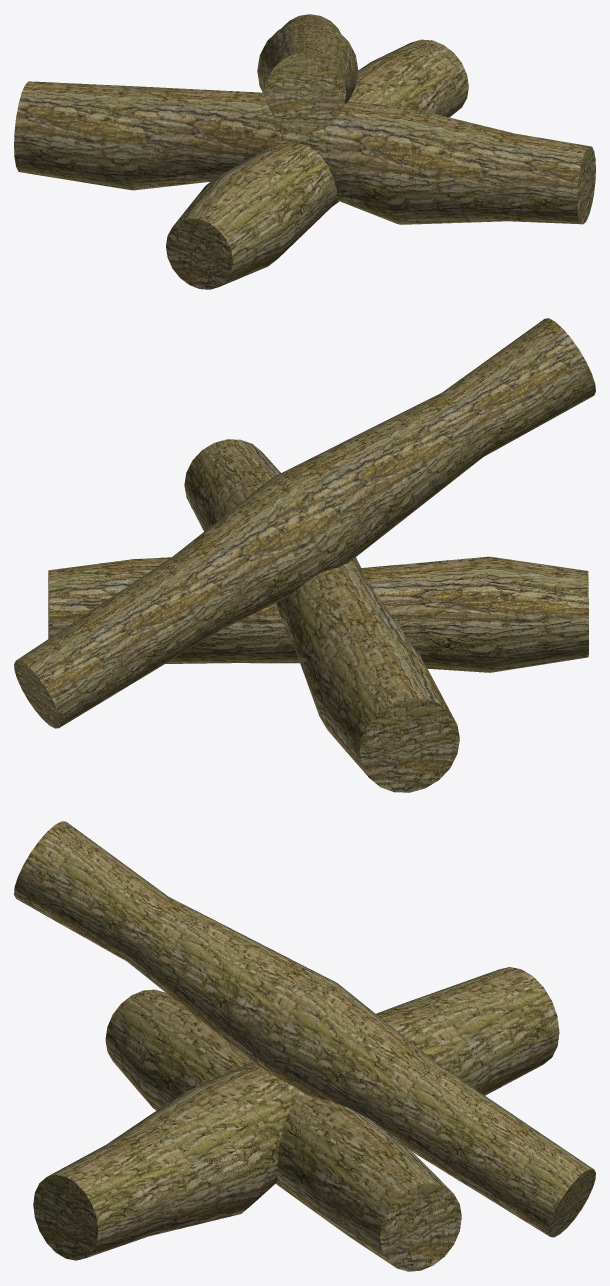
File: firepit_v001.fbx
3 views of the same model, one above another, from view 1: azimuth 30°, elevation 25°; view 2: azimuth 150°, elevation 25°; view 3: azimuth 270°, elevation 25° (orthographic). The views are drawn at different scales.
Visible parts, largest first — view 1: pCylinder3, pCylinder1, pCylinder2; view 2: pCylinder2, pCylinder1, pCylinder3; view 3: pCylinder2, pCylinder3, pCylinder1.
Boxes of the visible parts, left/top/right/bottom form: pCylinder3: left=14, top=81, right=595, bottom=224; pCylinder1: left=166, top=39, right=468, bottom=289; pCylinder2: left=257, top=14, right=358, bottom=132; pCylinder2: left=14, top=318, right=595, bottom=728; pCylinder1: left=48, top=556, right=588, bottom=672; pCylinder3: left=184, top=439, right=459, bottom=792; pCylinder2: left=14, top=821, right=595, bottom=1237; pCylinder3: left=33, top=967, right=559, bottom=1260; pCylinder1: left=105, top=989, right=461, bottom=1271.
Size of the model in its own units: 4.53 by 2.73 by 4.86.
